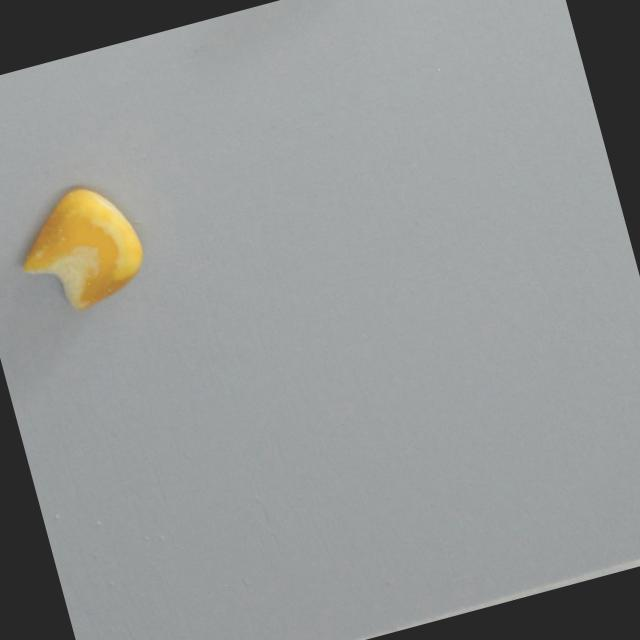no_canjicado: (4, 175, 155, 324)
